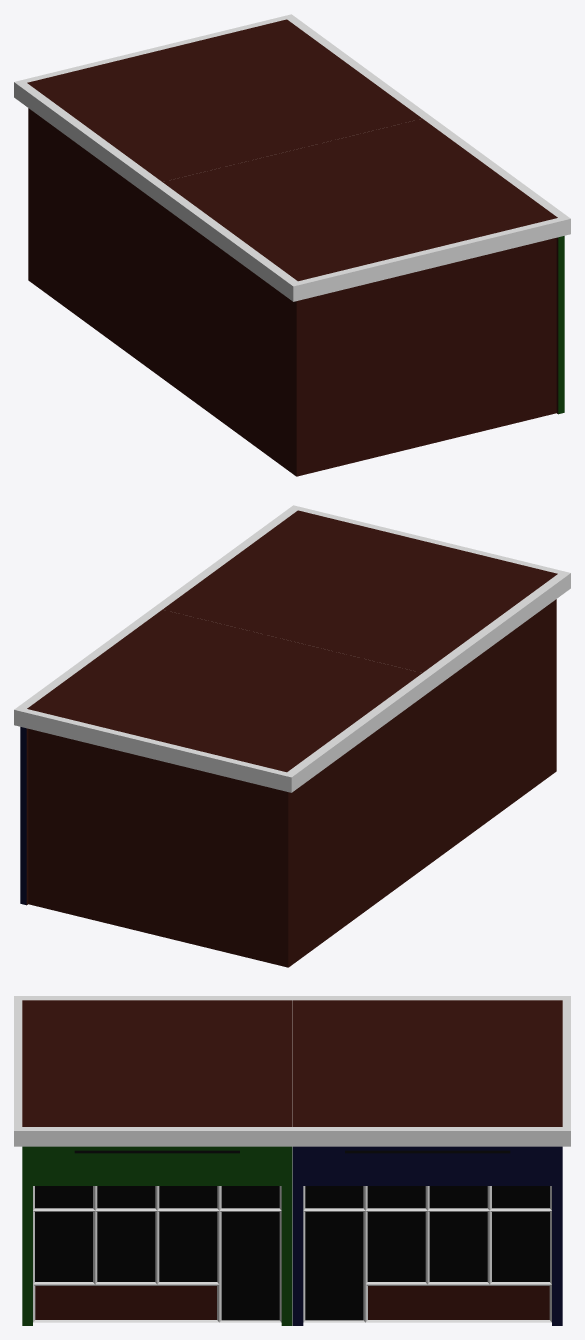
Rendered from shop.fbx.
3 views of the same model, one above another, from view 1: azimuth 30°, elevation 25°; view 2: azimuth 150°, elevation 25°; view 3: azimuth 270°, elevation 25° (orthographic).
Parts seen in each view (by area): view 1: Cube; view 2: Cube; view 3: Cube.
Boxes of the visible parts, left/top/right/bottom form: Cube: left=14, top=14, right=570, bottom=476; Cube: left=14, top=505, right=570, bottom=967; Cube: left=14, top=996, right=570, bottom=1325.
Bounding box in the file's own units: 754 × 504 × 1300.
